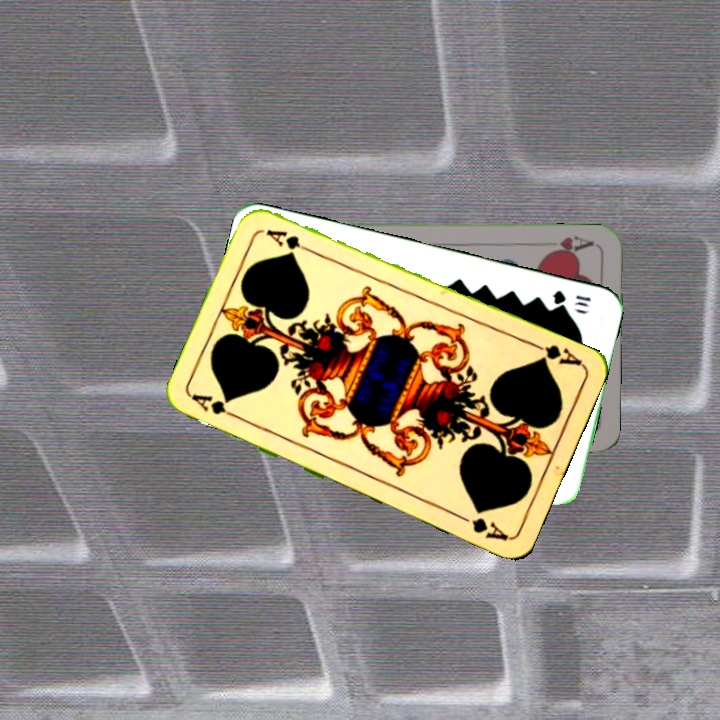G10: (549, 286, 594, 311)
GA: (527, 338, 585, 369), (188, 390, 244, 422)
HA: (540, 232, 597, 258)
